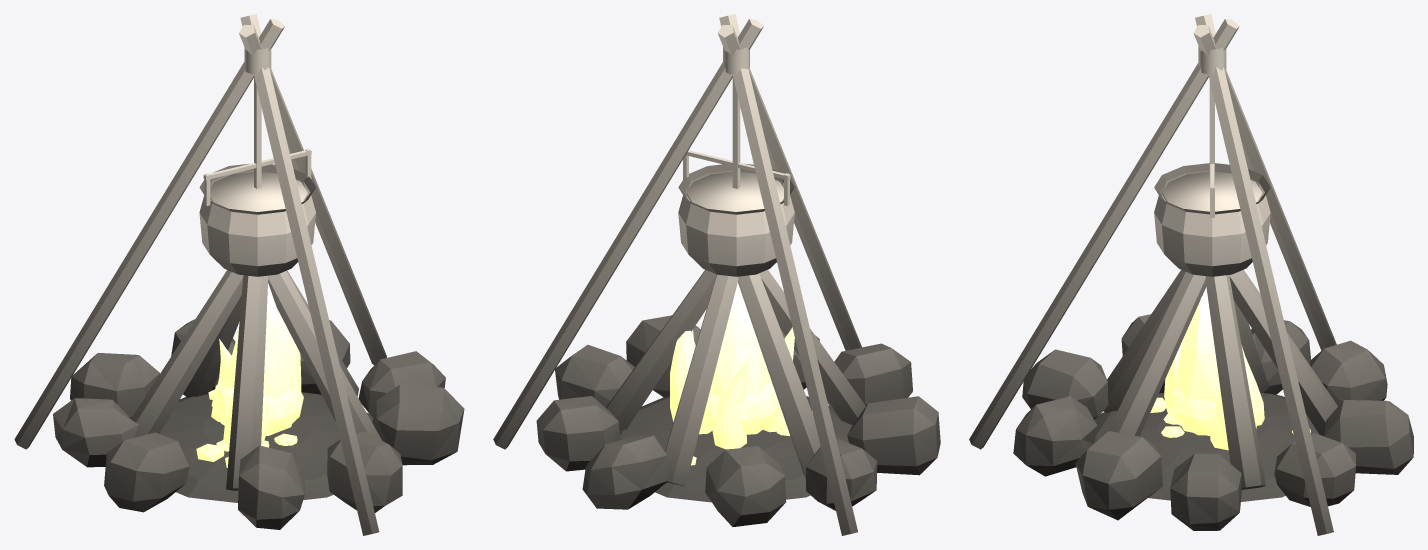
Rendered from SM_VK_Prop_Campfire.fbx.
The picture shows the model from 3 angles, left to right: view 1: azimuth 30°, elevation 25°; view 2: azimuth 150°, elevation 25°; view 3: azimuth 270°, elevation 25°; orthographic projection.
Visible parts, largest first — view 1: SM_VK_Prop_Campfire.001; view 2: SM_VK_Prop_Campfire.001; view 3: SM_VK_Prop_Campfire.001.
Part boxes in pixels (box(x1,y1,x2,y2)): SM_VK_Prop_Campfire.001: box(14, 14, 464, 535); SM_VK_Prop_Campfire.001: box(493, 14, 940, 535); SM_VK_Prop_Campfire.001: box(969, 14, 1413, 535).
Size of the model in its own units: 1.53 by 1.73 by 1.6.
